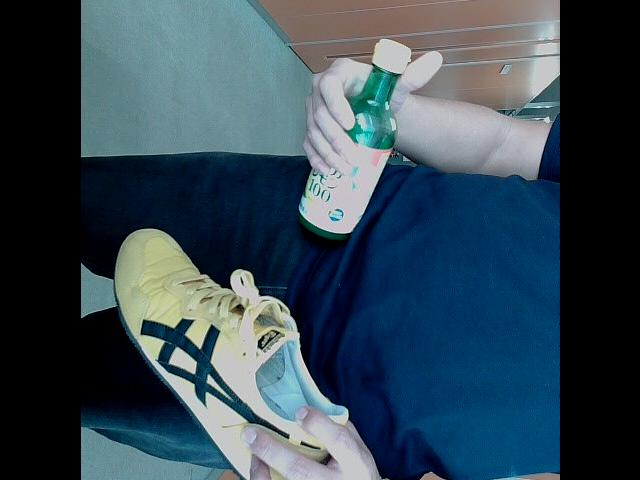Lemon_sapporo: (272, 32, 421, 252)
Shoes: (109, 226, 349, 480)
